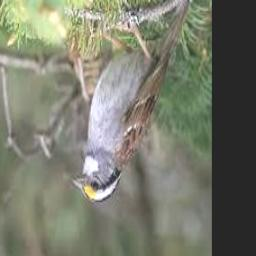Sparrow: (72, 0, 191, 204)
